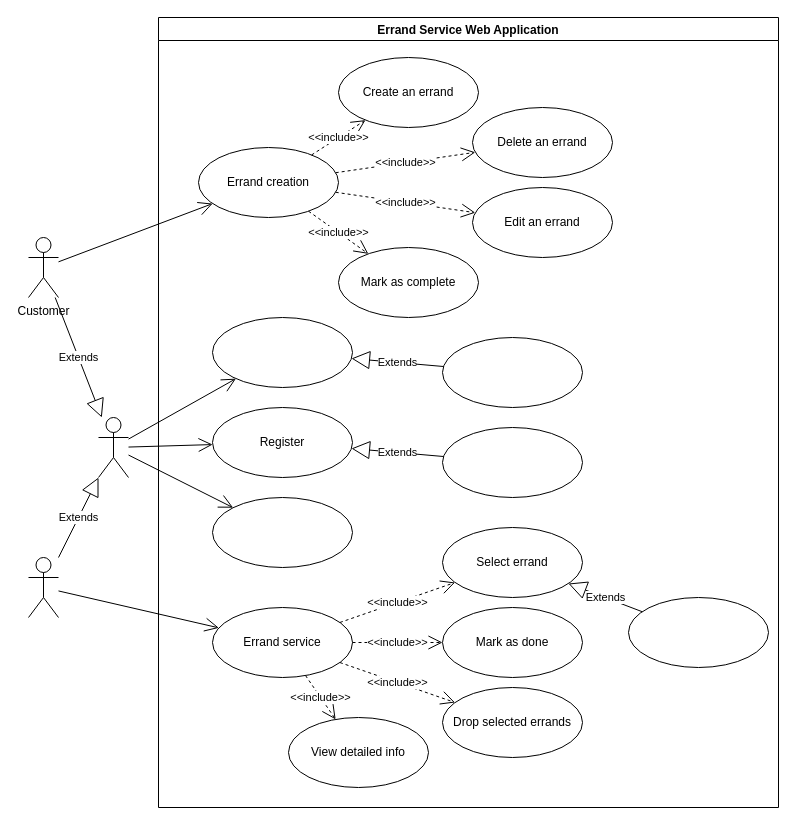
Image size: 796x825. Some labels were removed from this diagram. Here are the shapes that lost their labels. From the top down, the centre of each, then its label:
At point (282, 352): "Login".
At point (512, 372): "Success/Error message".
At point (113, 447): "User".
At point (512, 462): "Repeat ckeck".
At point (282, 532): "Edit information".
At point (43, 587): "Provider".
At point (698, 632): "Filter and order".
